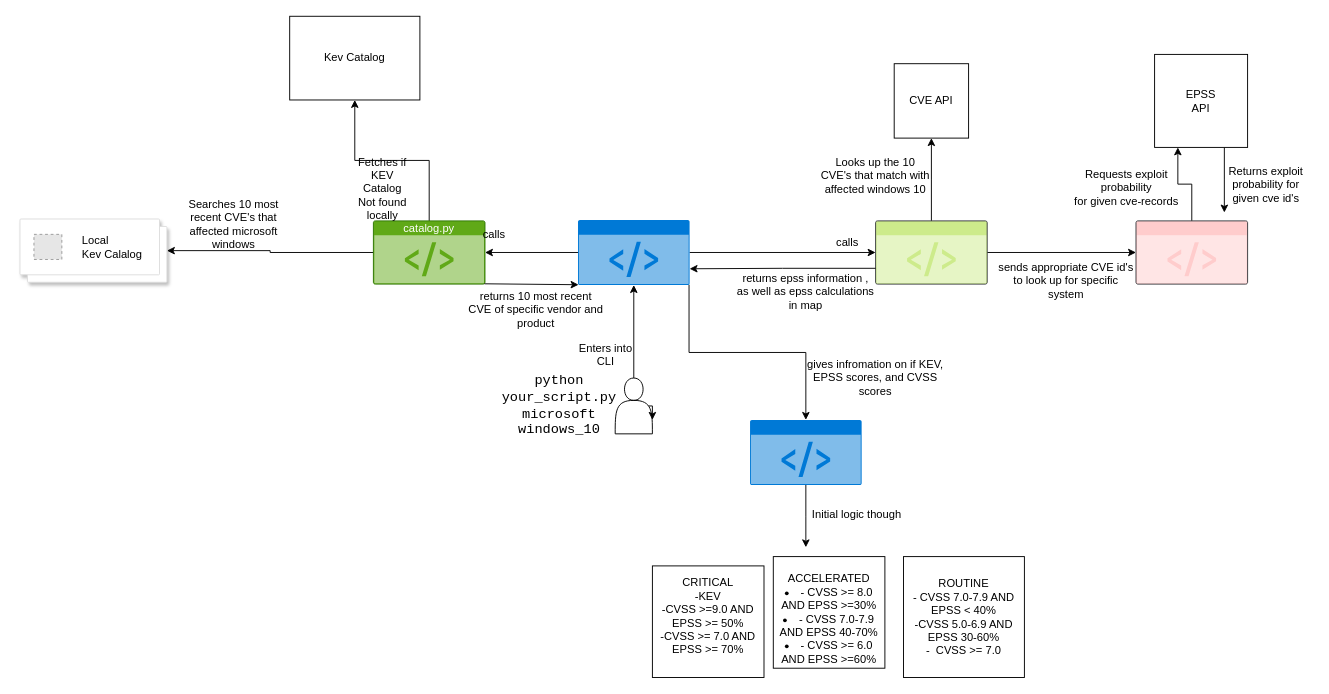
Image size: 1329x694. Some labels were removed from this diagram. Grey dashed boxes stand in for pictures. Each missing label, with the centre of its shape:
cve_lookup.py: the point at 931,252
epss_lookup.py: the point at 1191,252
my_script.py: the point at 633,252
risk_assessment.py: the point at 805,452
